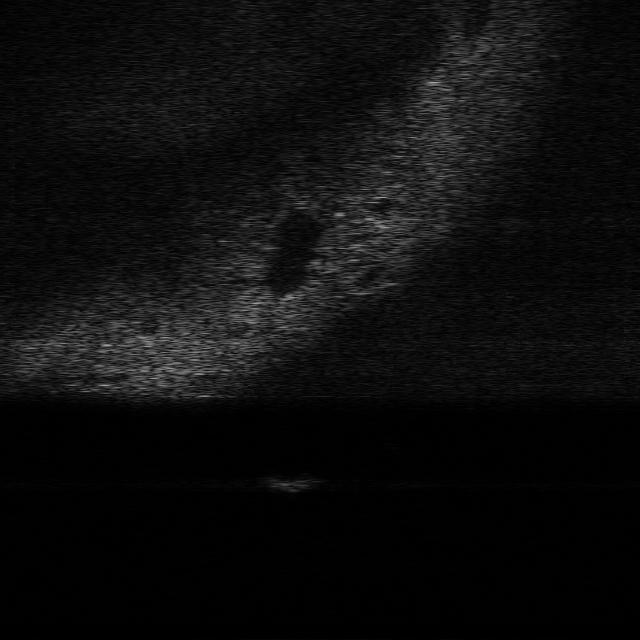cube: (260, 471, 318, 495)
